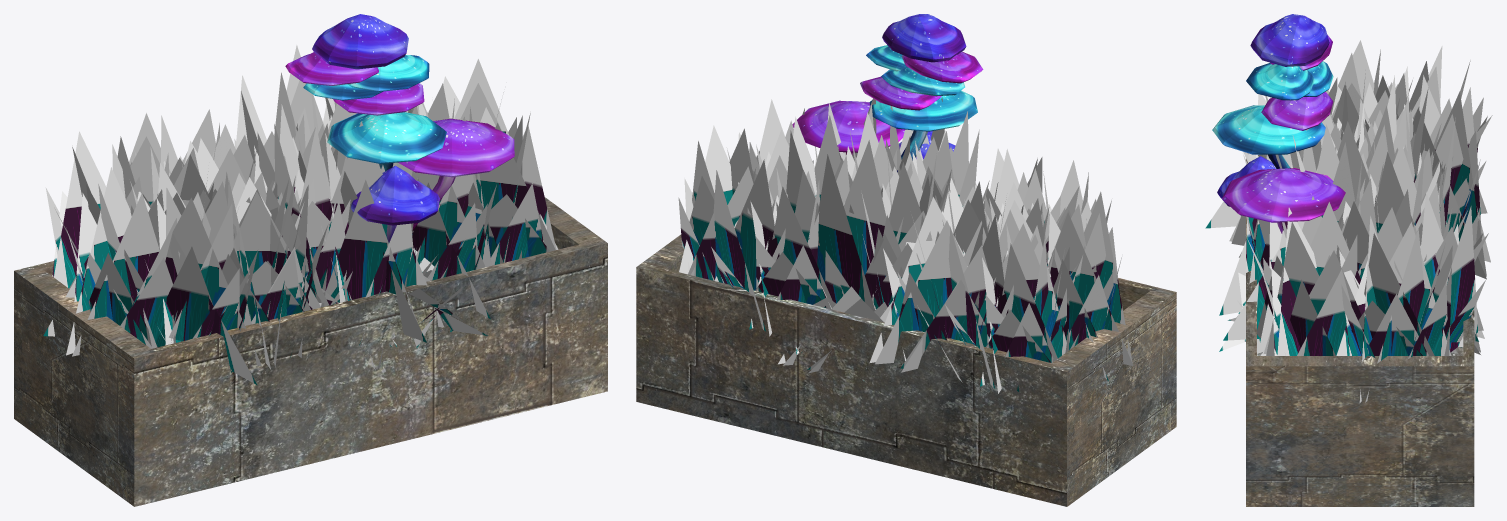
The model's file is Plant_box.fbx.
3 renders of one model, left to right at view 1: azimuth 30°, elevation 25°; view 2: azimuth 150°, elevation 25°; view 3: azimuth 270°, elevation 25°, orthographic. The views are drawn at different scales.
Visible parts, largest first — view 1: grass:Mesh3; view 2: grass:Mesh3; view 3: grass:Mesh3.
Boxes of the visible parts, left/top/right/bottom form: grass:Mesh3: left=14, top=14, right=607, bottom=506; grass:Mesh3: left=636, top=14, right=1176, bottom=506; grass:Mesh3: left=1205, top=14, right=1492, bottom=506.
Size of the model in its own units: 6.77 by 5.41 by 3.63.
Materials: 8 (8 with a texture image).
